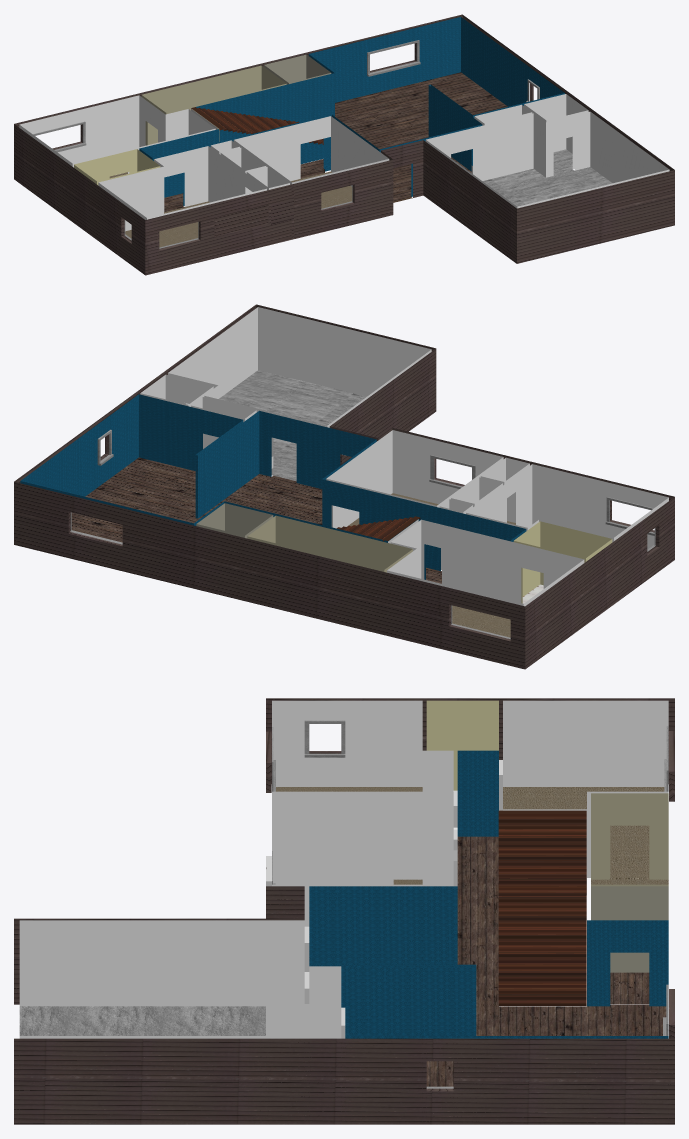
Rendered from house1.5.glb.
3 views of the same model, one above another, from view 1: azimuth 30°, elevation 25°; view 2: azimuth 150°, elevation 25°; view 3: azimuth 270°, elevation 25° (orthographic). The views are drawn at different scales.
Parts seen in each view (by area): view 1: Cube.029, Cube.002, Cube.012, Cube.001, Cube.005, Cube.004, Cube.003, Cube.006, Cube.023, Cube.028, Cube.009, Cube.021 (+7 smaller); view 2: Cube.029, Cube.002, Cube.012, Cube.001, Cube.005, Cube.004, Cube.003, Cube.023, Cube.006, Cube.009, Cube.008, Cube.007 (+4 smaller); view 3: Cube.029, Cube.002, Cube.012, Cube.021, Cube.005, Cube.004, Cube.003, Cube.001, Cube.023, Cube.006, Cube.016, Cube.008 (+8 smaller).
Part boxes in pixels (<box>): Cube.029: <box>14,14,674,275</box>; Cube.002: <box>139,17,564,205</box>; Cube.012: <box>425,111,669,208</box>; Cube.001: <box>164,72,507,211</box>; Cube.005: <box>19,95,215,173</box>; Cube.004: <box>98,146,266,231</box>; Cube.003: <box>233,116,388,186</box>; Cube.006: <box>141,65,286,145</box>; Cube.023: <box>483,149,612,206</box>; Cube.028: <box>214,184,293,239</box>; Cube.009: <box>74,149,160,185</box>; Cube.021: <box>191,107,323,144</box>; Cube.029: <box>14,304,674,669</box>; Cube.002: <box>20,394,526,579</box>; Cube.012: <box>168,307,431,475</box>; Cube.001: <box>71,457,441,583</box>; Cube.005: <box>387,519,584,606</box>; Cube.004: <box>466,464,668,549</box>; Cube.003: <box>326,430,503,528</box>; Cube.023: <box>218,370,366,481</box>; Cube.006: <box>247,515,412,572</box>; Cube.009: <box>513,521,612,603</box>; Cube.008: <box>439,457,529,569</box>; Cube.007: <box>196,503,273,538</box>; Cube.029: <box>14,698,674,1124</box>; Cube.002: <box>309,750,668,1038</box>; Cube.012: <box>19,920,304,1038</box>; Cube.021: <box>498,810,586,1005</box>; Cube.005: <box>503,700,668,894</box>; Cube.004: <box>272,700,453,810</box>; Cube.003: <box>272,811,453,926</box>; Cube.001: <box>426,836,666,1086</box>; Cube.023: <box>19,1006,265,1035</box>; Cube.006: <box>591,793,668,886</box>; Cube.016: <box>503,787,668,884</box>; Cube.008: <box>272,793,457,879</box>.
Bounding box in the file's own units: 25.59 × 3.04 × 21.
23 materials, 17 textured.
